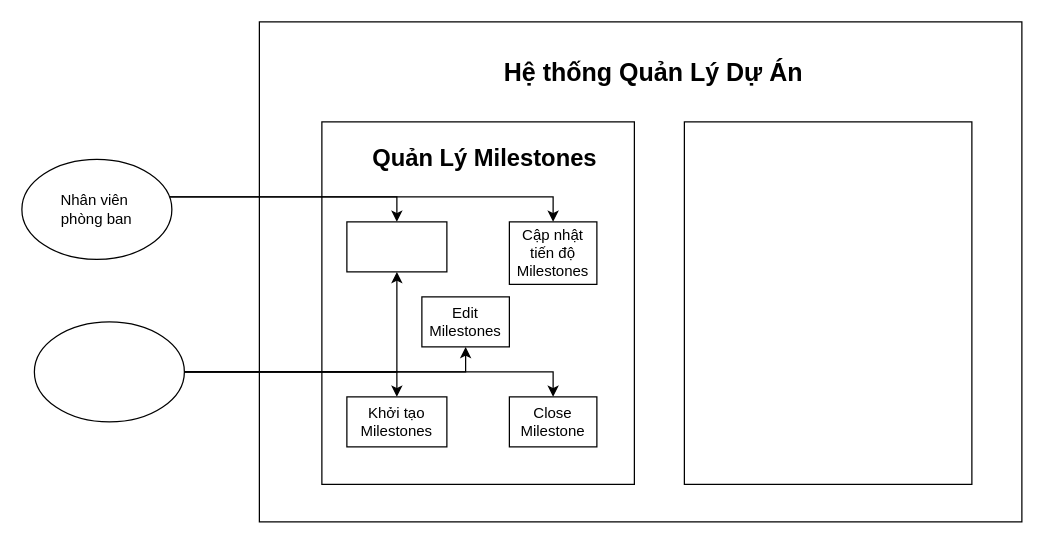
This 1044x544 diagram has some shape labels left out. Here are the shapes that lost their labels. From the top down, the box of each, then its label:
(346, 221, 447, 272): Xem chi tiết Milestones
(683, 121, 972, 484): Component khác...
(33, 321, 184, 422): Người quản lý dự án
